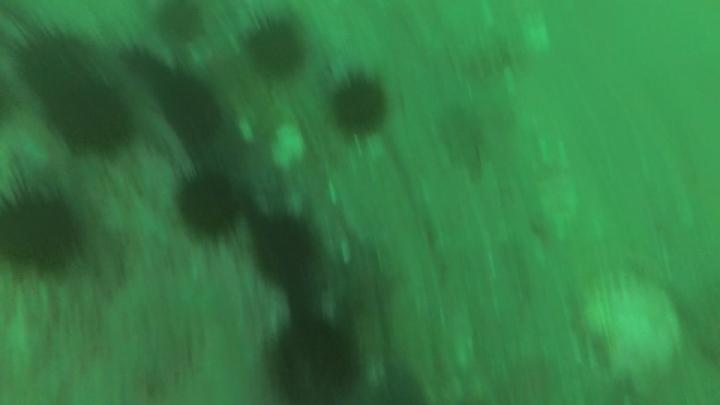holothurian: (42, 83, 129, 157), (276, 325, 354, 405), (2, 197, 76, 272), (157, 71, 221, 142), (13, 38, 90, 96), (256, 218, 312, 285), (181, 174, 237, 239), (329, 76, 387, 136), (245, 23, 307, 77), (158, 1, 206, 42), (126, 48, 164, 82)
